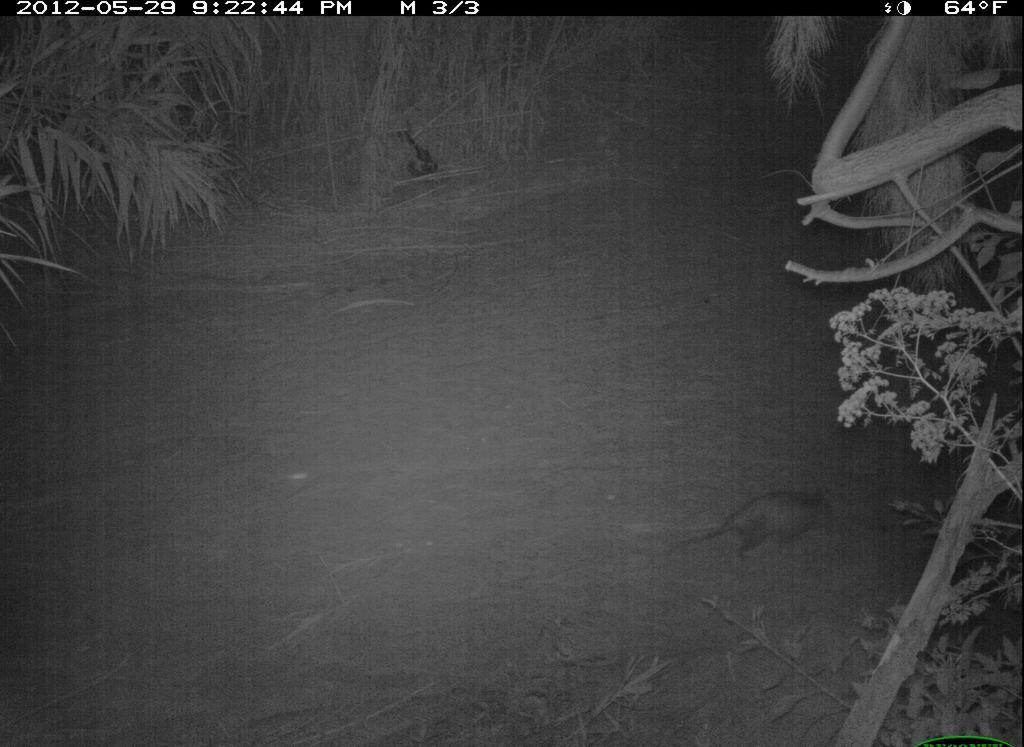opossum: (647, 443, 843, 575)
